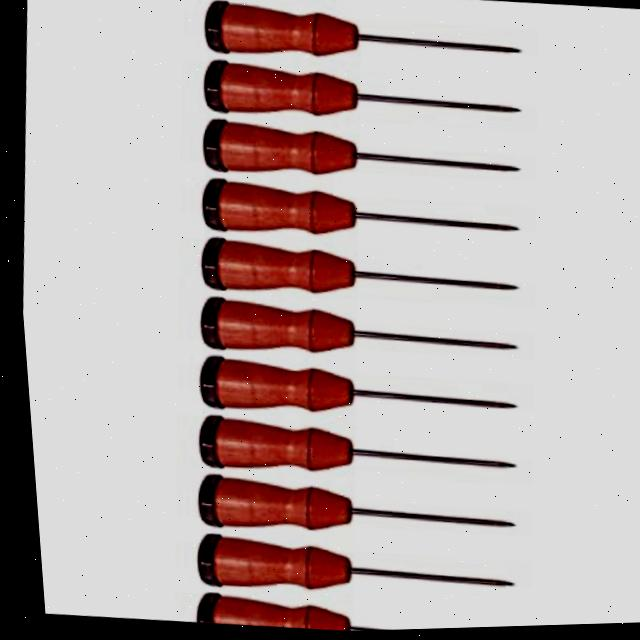ice pick: (188, 405, 515, 496), (184, 523, 510, 613), (193, 228, 519, 317), (194, 169, 519, 258), (185, 466, 513, 554), (197, 111, 522, 199), (192, 288, 517, 375), (199, 52, 523, 139), (191, 348, 514, 435), (201, 0, 524, 79), (182, 581, 505, 637), (202, 0, 525, 23)
